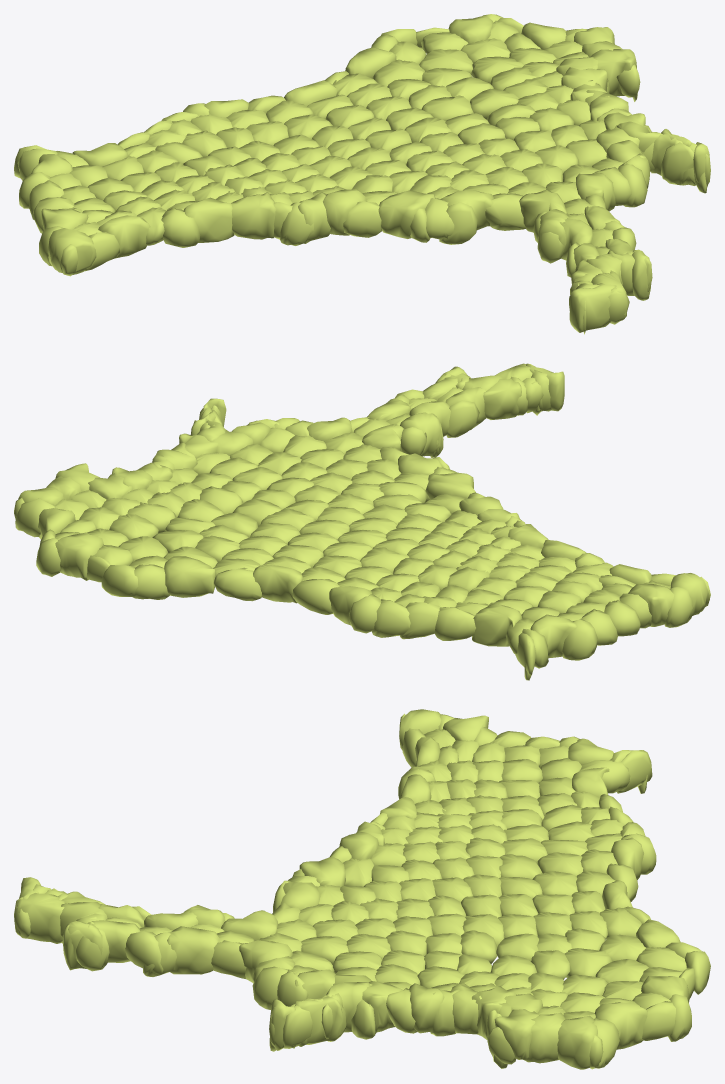
File: Islands5.004_fog.fbx
3 views of the same model, one above another, from view 1: azimuth 30°, elevation 25°; view 2: azimuth 150°, elevation 25°; view 3: azimuth 270°, elevation 25° (orthographic). The views are drawn at different scales.
Visible parts, largest first — view 1: Island5.004_fog_cell.131, Island5.004_fog_cell.069, Island5.004_fog_cell.058, Island5.004_fog_cell.164, Island5.004_fog_cell.084, Island5.004_fog_cell.096, Island5.004_fog_cell.049, Island5.004_fog_cell.151, Island5.004_fog_cell.193, Island5.004_fog_cell.042, Island5.004_fog_cell.124, Island5.004_fog_cell.008 (+107 smaller); view 2: Island5.004_fog_cell.066, Island5.004_fog_cell.031, Island5.004_fog_cell.175, Island5.004_fog_cell.214, Island5.004_fog_cell.198, Island5.004_fog_cell.053, Island5.004_fog_cell.009, Island5.004_fog_cell.070, Island5.004_fog_cell.081, Island5.004_fog_cell.036, Island5.004_fog_cell.185, Island5.004_fog_cell.202 (+95 smaller); view 3: Island5.004_fog_cell.086, Island5.004_fog_cell.163, Island5.004_fog_cell.082, Island5.004_fog_cell.134, Island5.004_fog_cell.075, Island5.004_fog_cell.124, Island5.004_fog_cell.093, Island5.004_fog_cell.106, Island5.004_fog_cell.225, Island5.004_fog_cell.078, Island5.004_fog_cell.017, Island5.004_fog_cell.008 (+108 smaller).
Part boxes in pixels (x1=…): Island5.004_fog_cell.131: x1=231, y1=192, x2=276, y2=239; Island5.004_fog_cell.069: x1=569, y1=283, x2=616, y2=332; Island5.004_fog_cell.058: x1=378, y1=190, x2=435, y2=238; Island5.004_fog_cell.164: x1=183, y1=197, x2=234, y2=242; Island5.004_fog_cell.084: x1=47, y1=228, x2=96, y2=274; Island5.004_fog_cell.096: x1=98, y1=215, x2=150, y2=258; Island5.004_fog_cell.049: x1=485, y1=193, x2=525, y2=230; Island5.004_fog_cell.151: x1=161, y1=207, x2=200, y2=247; Island5.004_fog_cell.193: x1=323, y1=189, x2=366, y2=235; Island5.004_fog_cell.042: x1=343, y1=201, x2=381, y2=237; Island5.004_fog_cell.124: x1=590, y1=49, x2=636, y2=96; Island5.004_fog_cell.008: x1=519, y1=189, x2=566, y2=232; Island5.004_fog_cell.066: x1=164, y1=556, x2=215, y2=597; Island5.004_fog_cell.031: x1=472, y1=603, x2=522, y2=646; Island5.004_fog_cell.175: x1=55, y1=532, x2=103, y2=580; Island5.004_fog_cell.214: x1=253, y1=564, x2=302, y2=603; Island5.004_fog_cell.198: x1=483, y1=378, x2=521, y2=419; Island5.004_fog_cell.053: x1=214, y1=567, x2=262, y2=601; Island5.004_fog_cell.009: x1=434, y1=607, x2=475, y2=640; Island5.004_fog_cell.070: x1=292, y1=579, x2=339, y2=614; Island5.004_fog_cell.081: x1=371, y1=599, x2=410, y2=637; Island5.004_fog_cell.036: x1=530, y1=614, x2=577, y2=658; Island5.004_fog_cell.185: x1=562, y1=619, x2=597, y2=660; Island5.004_fog_cell.202: x1=628, y1=584, x2=674, y2=626; Island5.004_fog_cell.086: x1=167, y1=926, x2=219, y2=974; Island5.004_fog_cell.163: x1=15, y1=893, x2=64, y2=943; Island5.004_fog_cell.082: x1=557, y1=1015, x2=597, y2=1069; Island5.004_fog_cell.134: x1=594, y1=1002, x2=647, y2=1049; Island5.004_fog_cell.075: x1=525, y1=1012, x2=565, y2=1063; Island5.004_fog_cell.124: x1=494, y1=1009, x2=539, y2=1060; Island5.004_fog_cell.093: x1=409, y1=983, x2=444, y2=1033; Island5.004_fog_cell.106: x1=295, y1=996, x2=342, y2=1044; Island5.004_fog_cell.225: x1=450, y1=983, x2=481, y2=1034; Island5.004_fog_cell.078: x1=125, y1=931, x2=163, y2=974; Island5.004_fog_cell.017: x1=239, y1=940, x2=292, y2=983; Island5.004_fog_cell.008: x1=221, y1=910, x2=278, y2=940.
Bounding box in the file's own units: 164 × 11.78 × 147.
